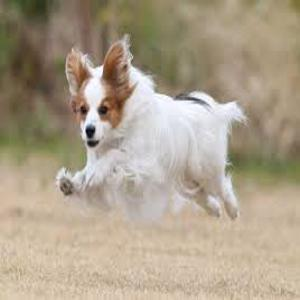yell: (55, 36, 245, 221)
